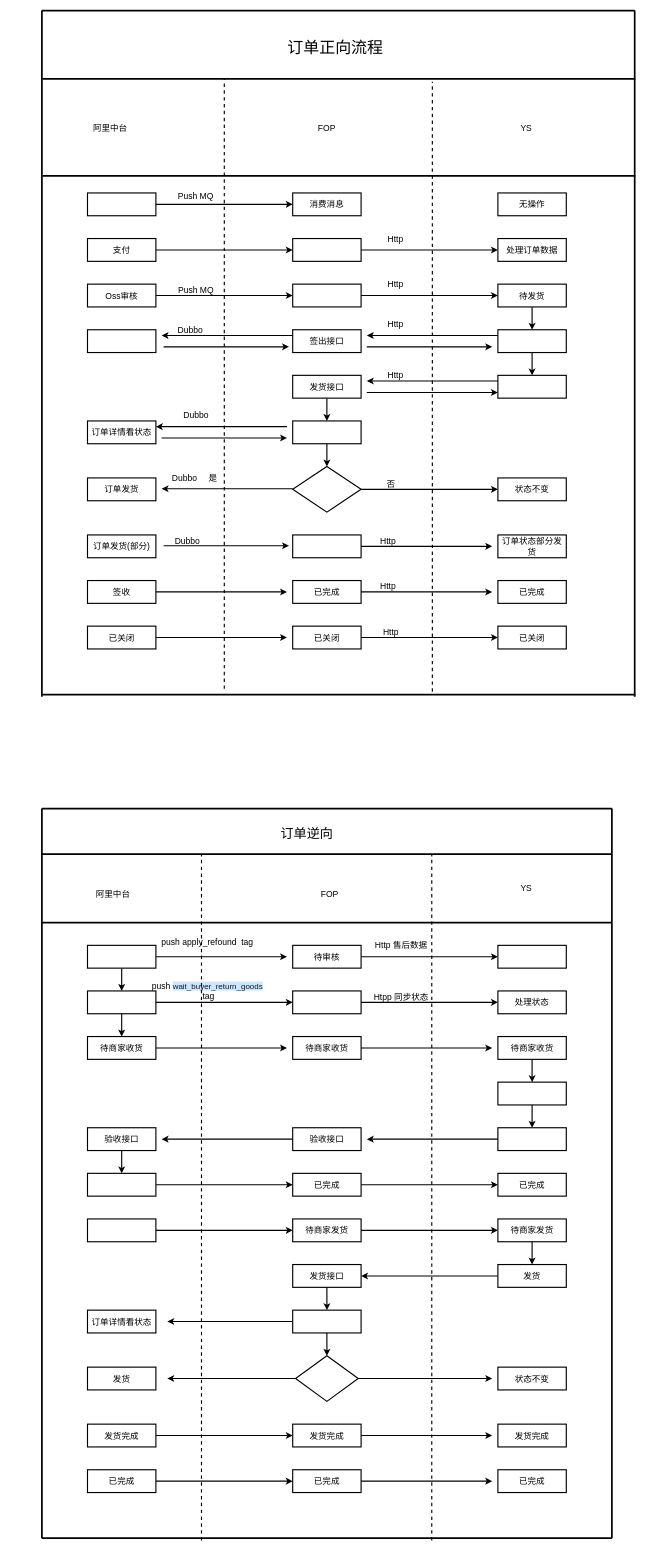
This 646x1552 diagram has some shape labels left out. The shapes that lost their labels are listed below. From the top down, each one's centre as x and y in pixels, then its label:
At point 121,204: "创单".
At point 326,250: "已付款状态".
At point 326,295: "待发货状态".
At point 121,341: "打标订单状态".
At point 532,341: "签出操作".
At point 532,386: "发货(触发)".
At point 326,432: "发货前校验".
At point 326,489: "是否通过".
At point 326,546: "部分发货".
At point 121,956: "申请售后".
At point 532,956: "处理售后数据".
At point 121,1002: "同意".
At point 326,1002: "待买家退货".
At point 532,1093: "商家确认收货".
At point 532,1139: "验收收货".
At point 121,1184: "售后完成".
At point 121,1230: "待商家发货(换货场景)".
At point 326,1321: "发货校验".
At point 327,1378: "通过校验".
